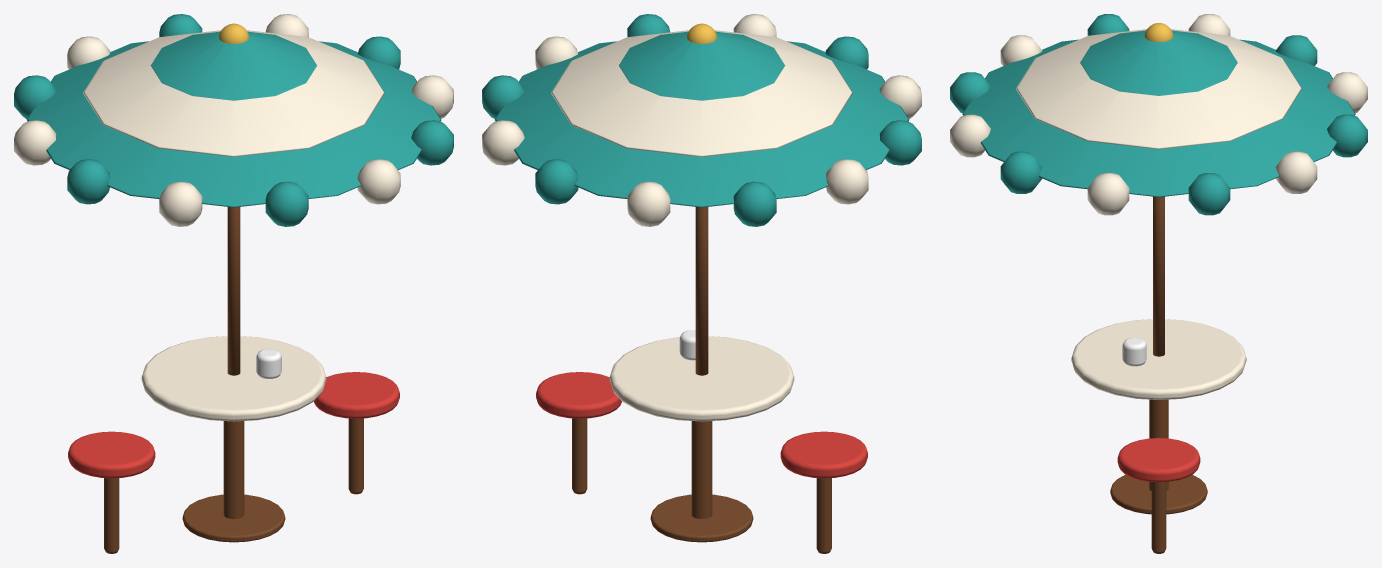
The model's file is cafe_table.glb.
3 views of the same model, side by side, from view 1: azimuth 30°, elevation 25°; view 2: azimuth 150°, elevation 25°; view 3: azimuth 270°, elevation 25° (orthographic). The views are drawn at different scales.
Visible parts, largest first — view 1: cafe_table; view 2: cafe_table; view 3: cafe_table.
Part boxes in pixels (bbox=[...]): cafe_table: bbox=[14, 14, 453, 553]; cafe_table: bbox=[482, 14, 921, 553]; cafe_table: bbox=[950, 14, 1367, 553].
Bounding box in the file's own units: 1.71 × 2.14 × 1.72.
